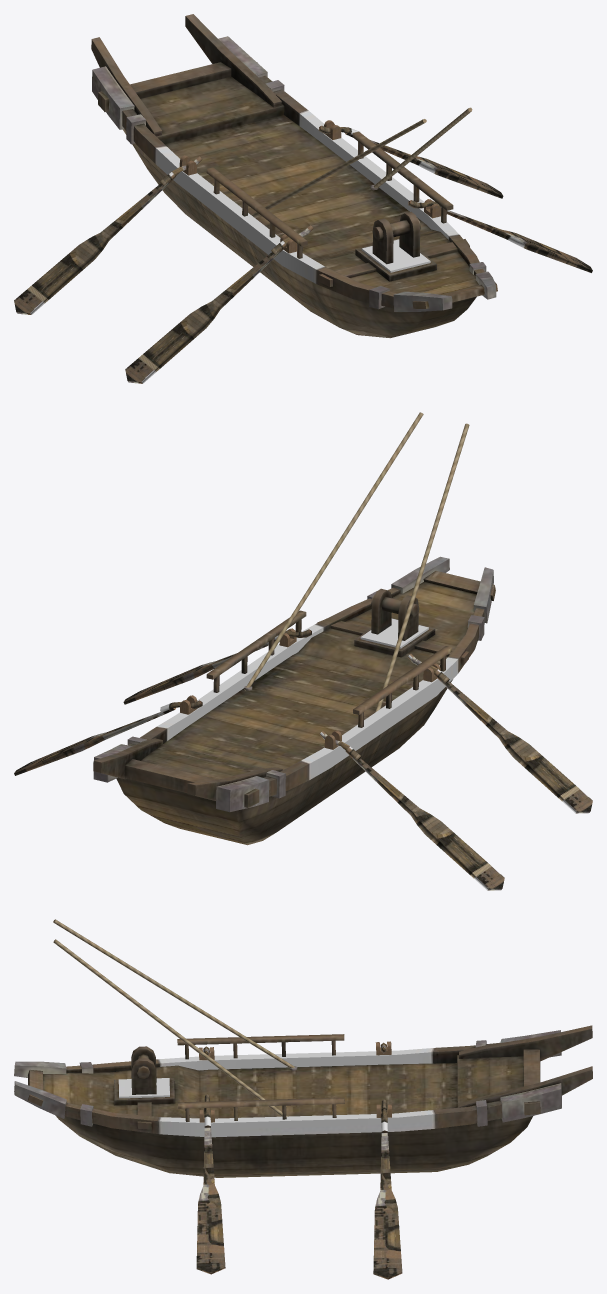
File: 266-mengchong.glb
3 views of the same model, one above another, from view 1: azimuth 30°, elevation 25°; view 2: azimuth 150°, elevation 25°; view 3: azimuth 270°, elevation 25° (orthographic). The views are drawn at different scales.
Size of the model in its own units: 4.52 by 2.46 by 5.25.
1 material, 1 textured.
